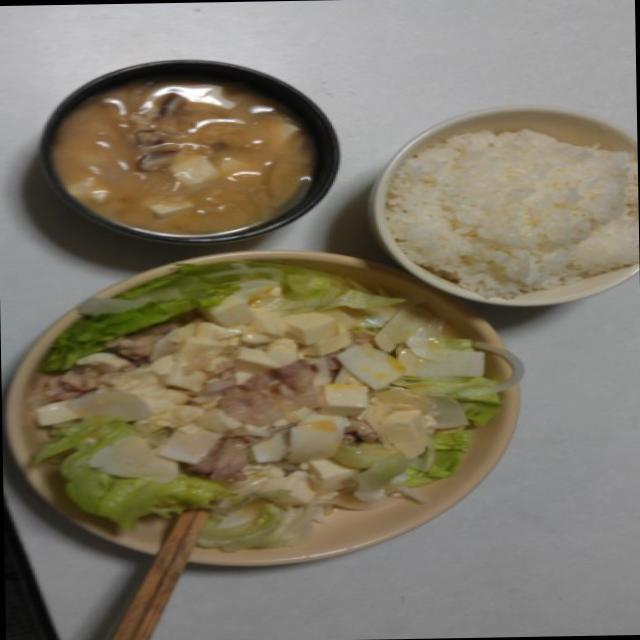Rice: (397, 120, 639, 288)
